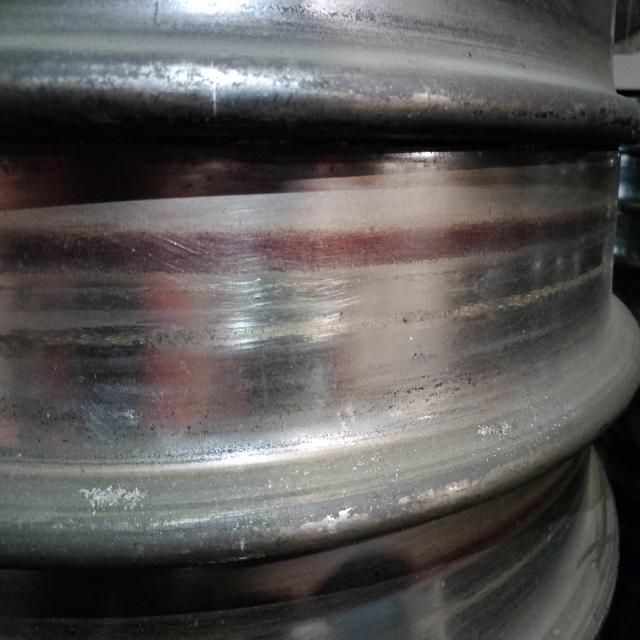Peeling: (411, 244, 615, 369), (466, 410, 526, 449)
flat: (41, 250, 396, 368)
